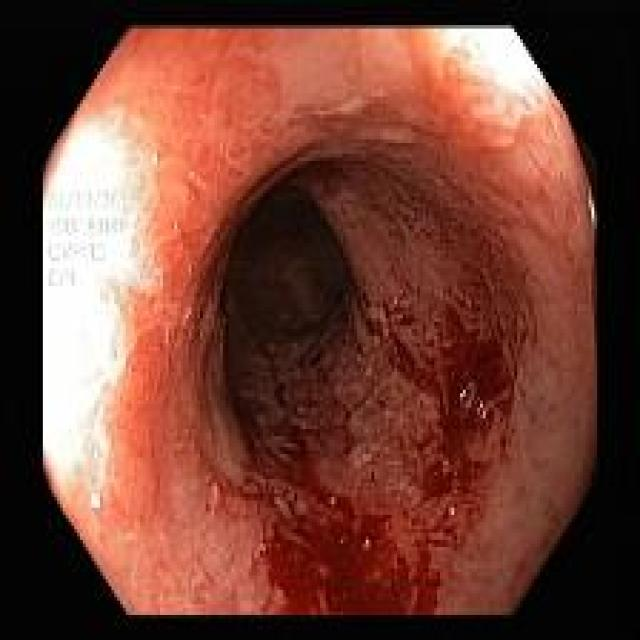ulcerative-colitis: (44, 28, 596, 615)
